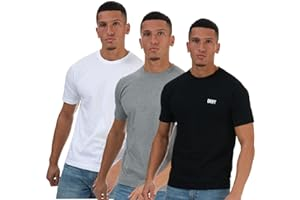design: (206, 96, 217, 106)
